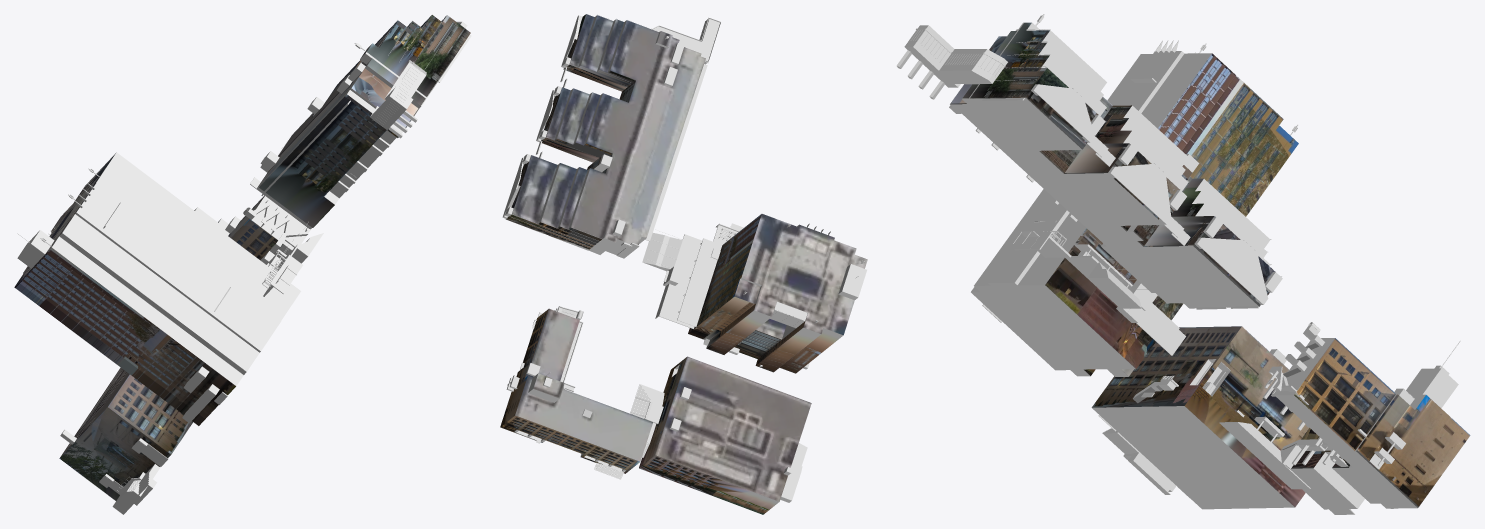
File: 4993_bldg_Building.glb
3 views of the same model, side by side, from view 1: azimuth 30°, elevation 25°; view 2: azimuth 150°, elevation 25°; view 3: azimuth 270°, elevation 25° (orthographic). The views are drawn at different scales.
Bounding box in the file's own units: 143 × 167 × 141.
Materials: 15 (14 with a texture image).
